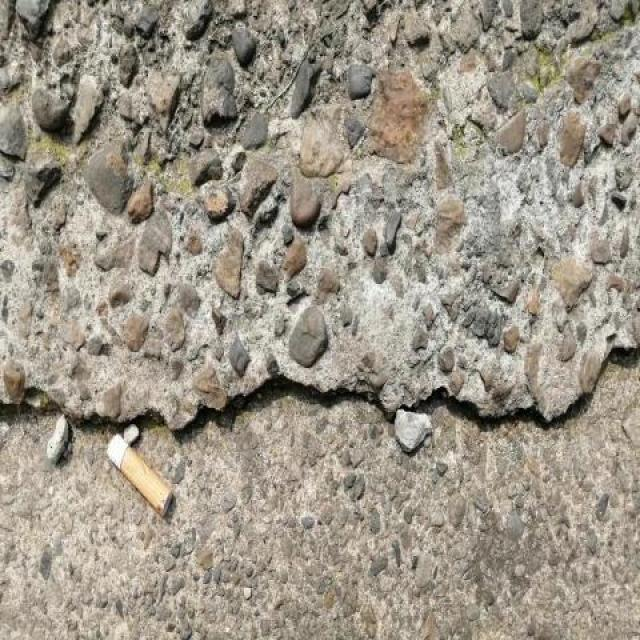non-organic waste: (99, 427, 176, 524)
